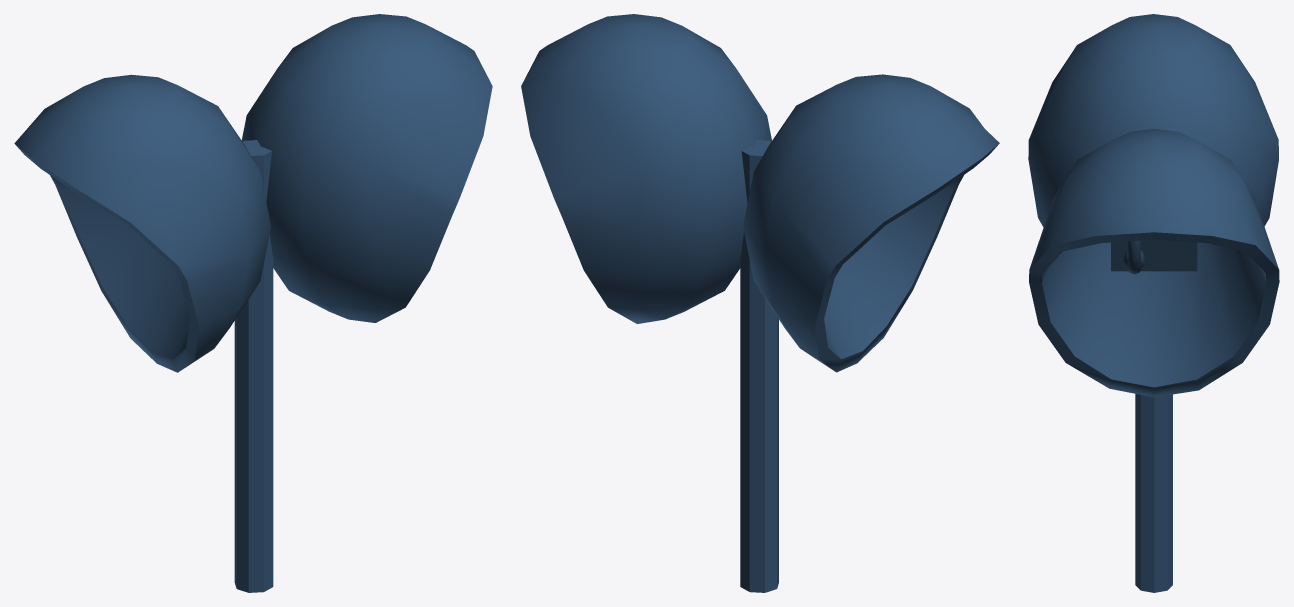
Rendered from DoublePayphone.fbx.
The picture shows the model from 3 angles, left to right: view 1: azimuth 30°, elevation 25°; view 2: azimuth 150°, elevation 25°; view 3: azimuth 270°, elevation 25°; orthographic projection. The views are drawn at different scales.
Visible parts, largest first — view 1: DoublePayphone; view 2: DoublePayphone; view 3: DoublePayphone.
Part boxes in pixels (bbox=[...]): DoublePayphone: bbox=[14, 14, 492, 592]; DoublePayphone: bbox=[521, 14, 999, 592]; DoublePayphone: bbox=[1028, 14, 1279, 592].
Size of the model in its own units: 386 by 442 by 200.
